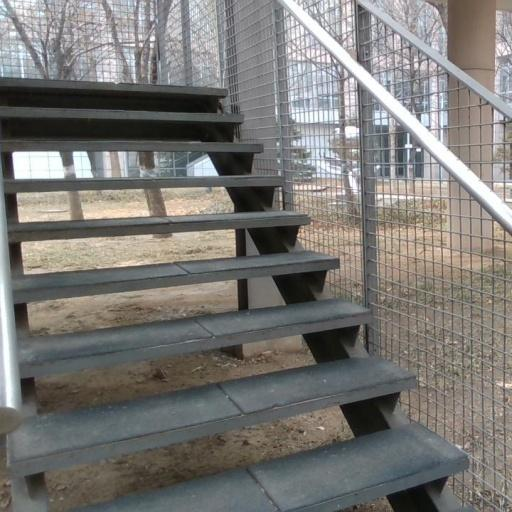stairs: (0, 79, 466, 511)
